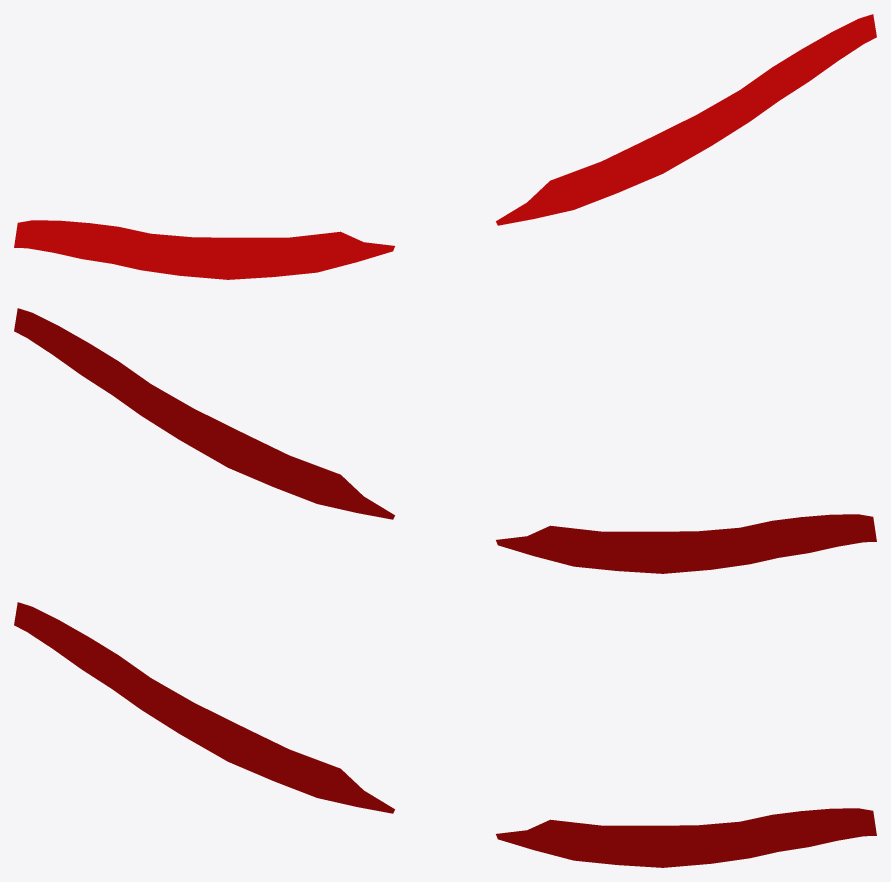
Rendered from frame93.fbx.
The picture shows the model from 3 angles, top to bottom: view 1: azimuth 30°, elevation 25°; view 2: azimuth 150°, elevation 25°; view 3: azimuth 330°, elevation 25°; orthographic projection.
Parts seen in each view (by area): view 1: MaterialLayer; view 2: MaterialLayer; view 3: MaterialLayer.
Boxes of the visible parts, left/top/right/bottom form: MaterialLayer: left=14, top=14, right=876, bottom=279; MaterialLayer: left=14, top=308, right=876, bottom=573; MaterialLayer: left=14, top=602, right=876, bottom=867.
Bounding box in the file's own units: 1340 × 182 × 0.000124.
